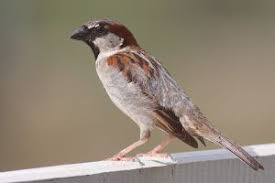hsparrow: (63, 15, 268, 174)
